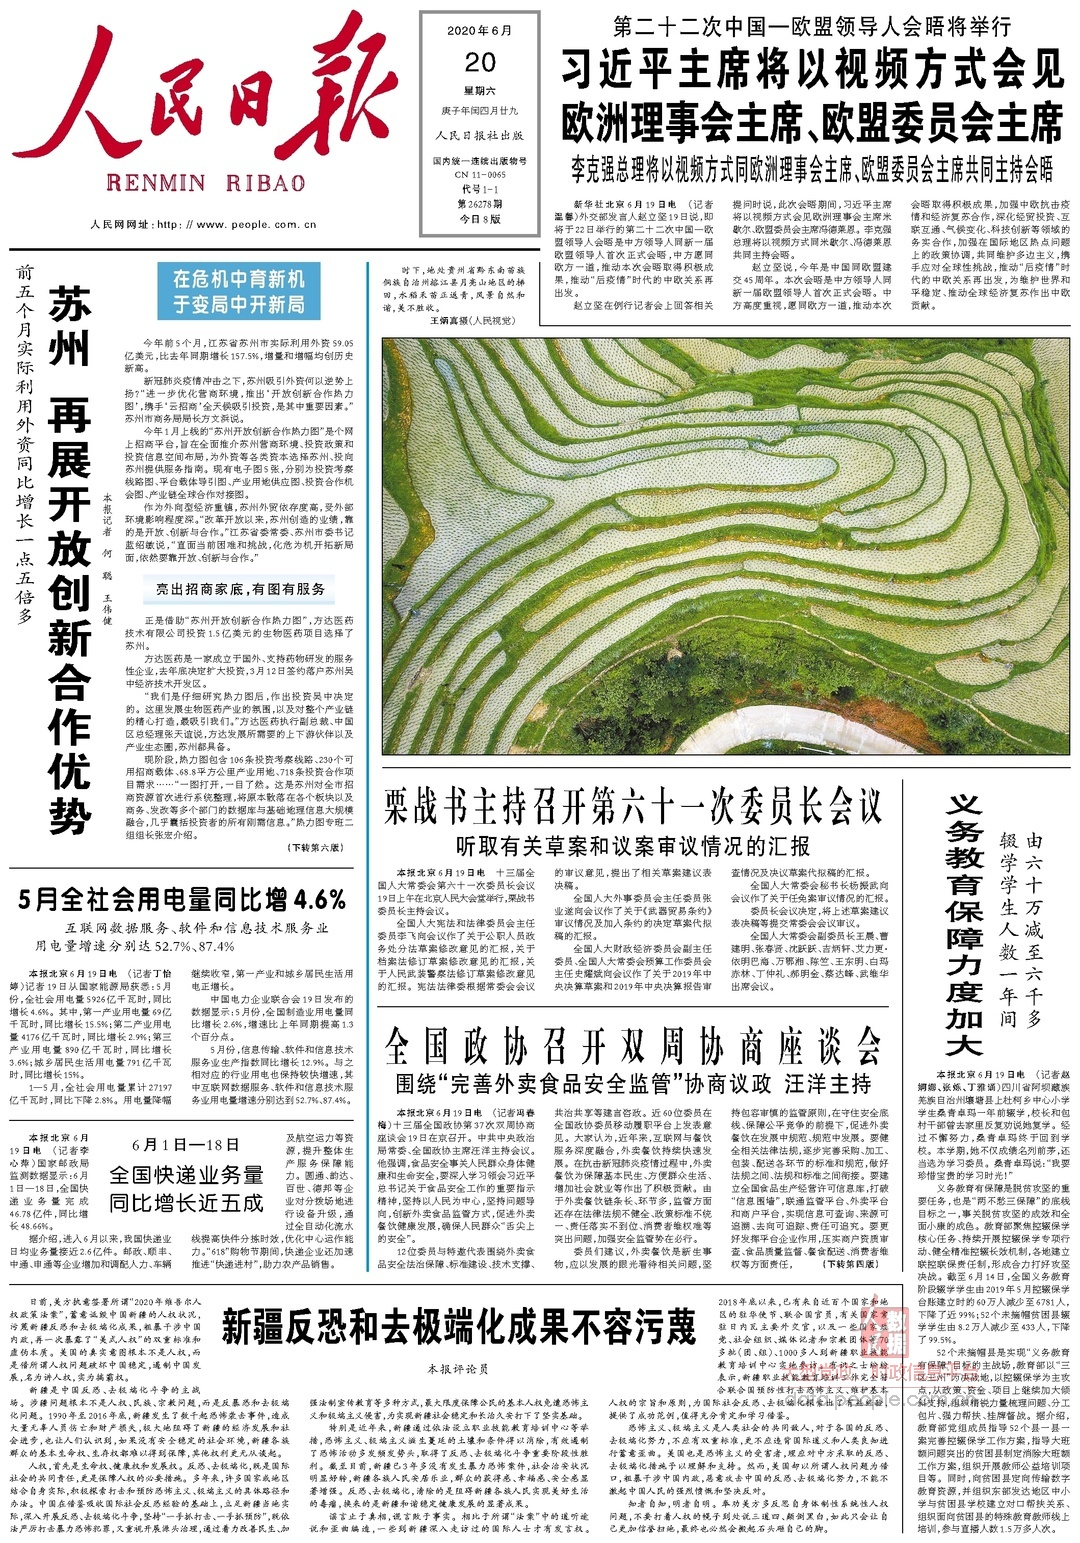pic: (376, 333, 1076, 762)
